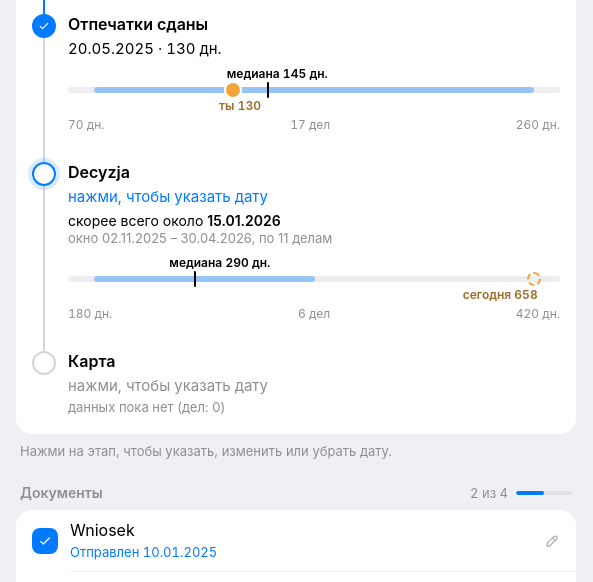
Test: Case screen › opens an unset milestone at today, and an empty save there asks for a date
(page scrolled)
Expected: the button "Wniosek" is shown, [70,520,532,541]
Click the button "decyzja" at (322,242), box [68,148,576,337]
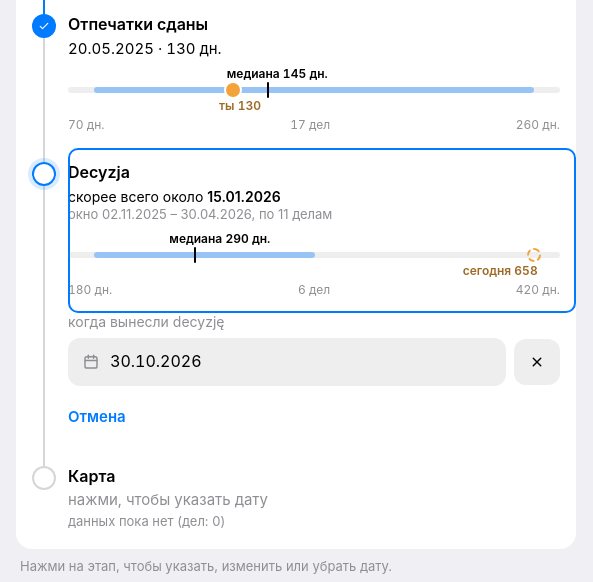
Expected: the date field named "decyzja" holds "2026-10-30", [110,338,492,385]
Click the button named "Очистить дату" at (537,362), box [514,339,560,385]
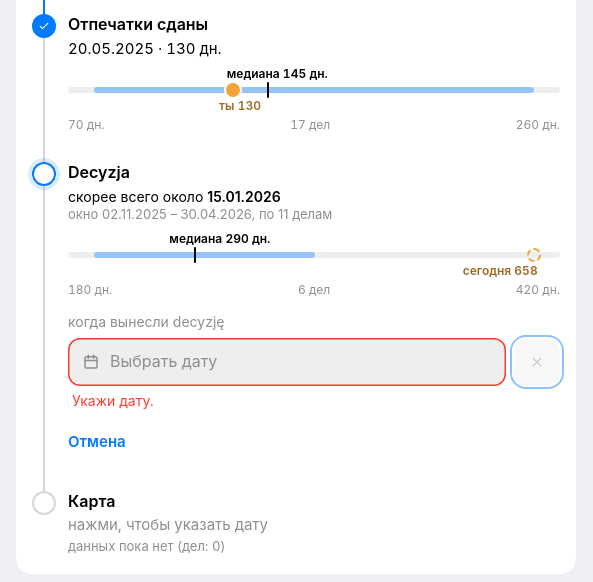
Expected: the date field named "decyzja" is empty, [110,338,492,385]
Expected: the text "Укажи дату." is shown, [72,392,154,409]
